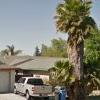Tree: (47, 0, 100, 63)
